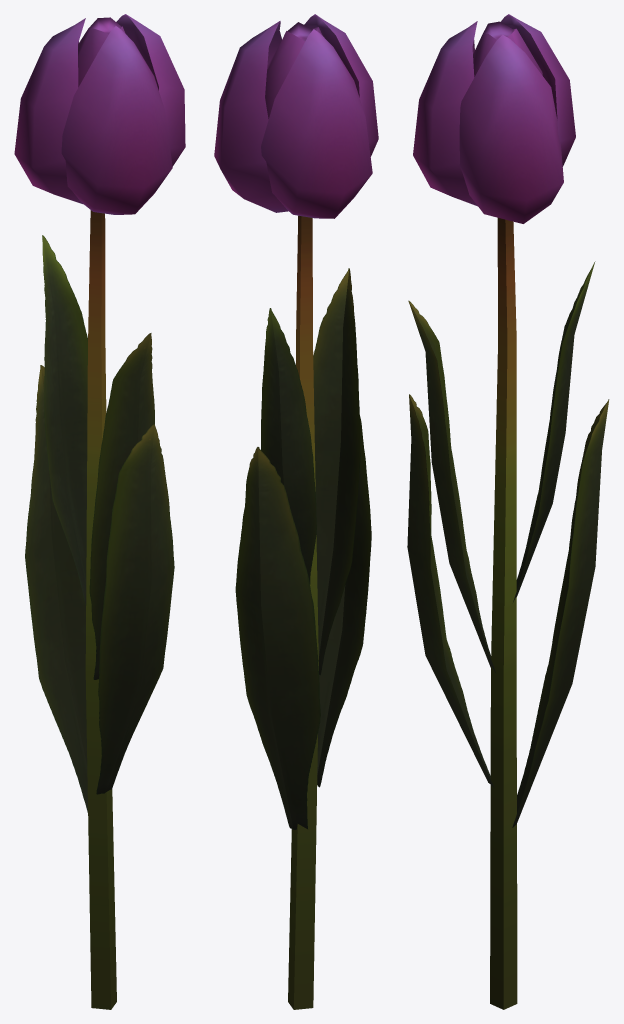
Rendered from Flower_A05.fbx.
3 renders of one model, left to right at view 1: azimuth 30°, elevation 25°; view 2: azimuth 150°, elevation 25°; view 3: azimuth 270°, elevation 25°, orthographic.
Parts seen in each view (by area): view 1: Flower_A05; view 2: Flower_A05; view 3: Flower_A05.
Boxes of the visible parts, left/top/right/bottom form: Flower_A05: left=14, top=14, right=185, bottom=1009; Flower_A05: left=214, top=14, right=378, bottom=1009; Flower_A05: left=407, top=14, right=609, bottom=1009.
Bounding box in the file's own units: 5.97 × 38.26 × 7.15.
